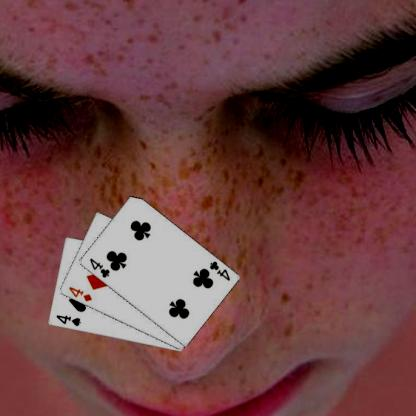4C: (87, 255, 111, 279), (207, 258, 231, 282)
4D: (66, 284, 93, 303)
4S: (53, 312, 82, 328)
